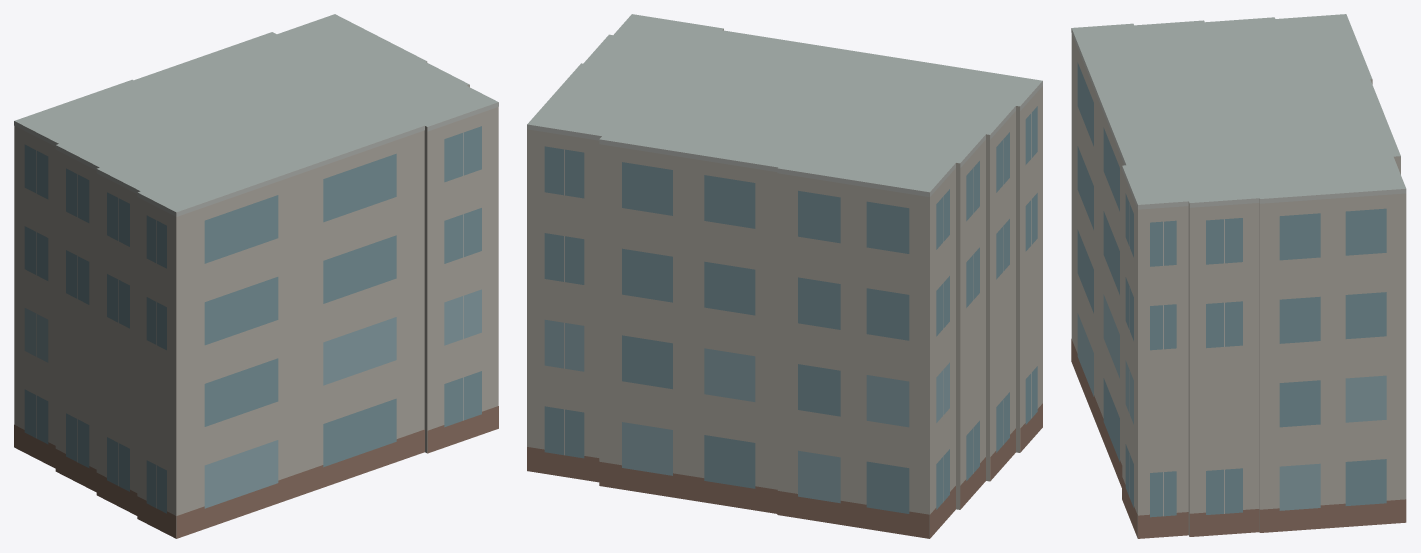
File: survey-upis-32918465.glb
The picture shows the model from 3 angles, left to right: view 1: azimuth 30°, elevation 25°; view 2: azimuth 150°, elevation 25°; view 3: azimuth 270°, elevation 25°; orthographic projection. The views are drawn at different scales.
Parts seen in each view (by area): view 1: survey-upis-32918465.tmp; view 2: survey-upis-32918465.tmp; view 3: survey-upis-32918465.tmp.
Part boxes in pixels (<box>): survey-upis-32918465.tmp: <box>14,14,498,538</box>; survey-upis-32918465.tmp: <box>527,14,1042,538</box>; survey-upis-32918465.tmp: <box>1071,14,1406,538</box>.
Size of the model in its own units: 21.11 by 17.2 by 15.64.
